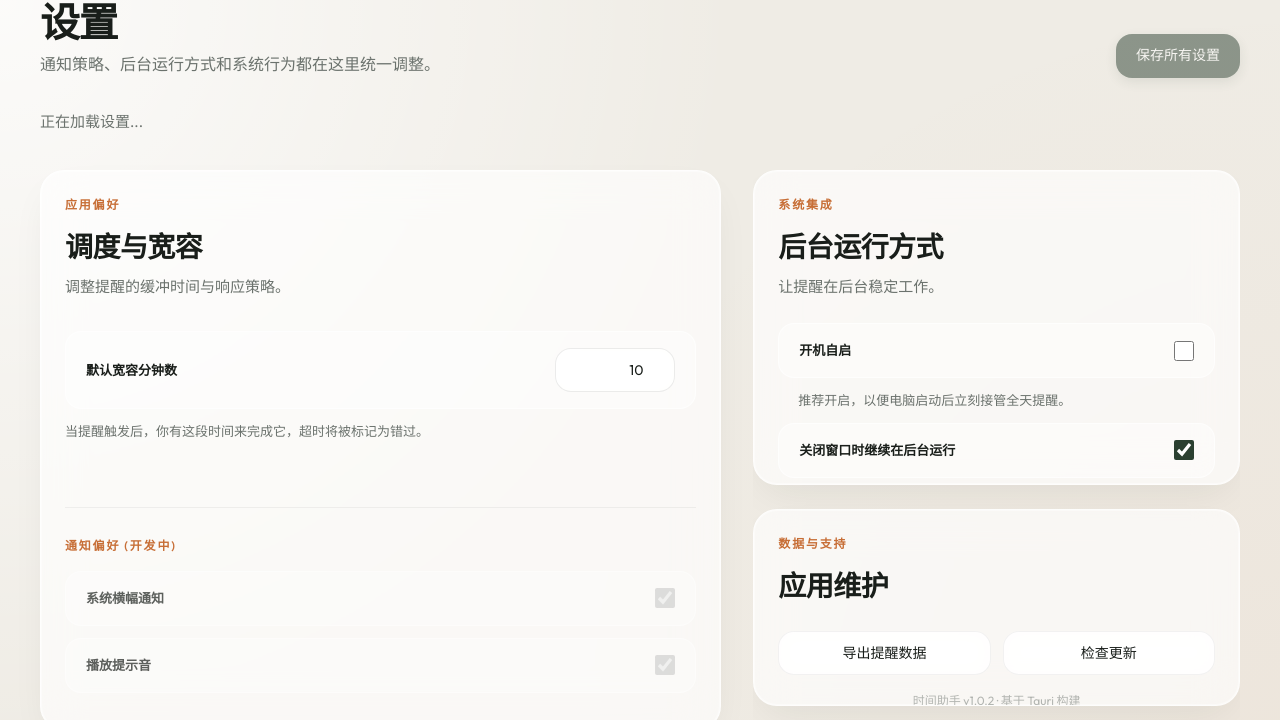
Test: SettingsPage › blocks saving when grace minutes is invalid
Replace the text in the number field named "默认宽容时间" with "-1" at point(615, 370), box [555,348,675,392]
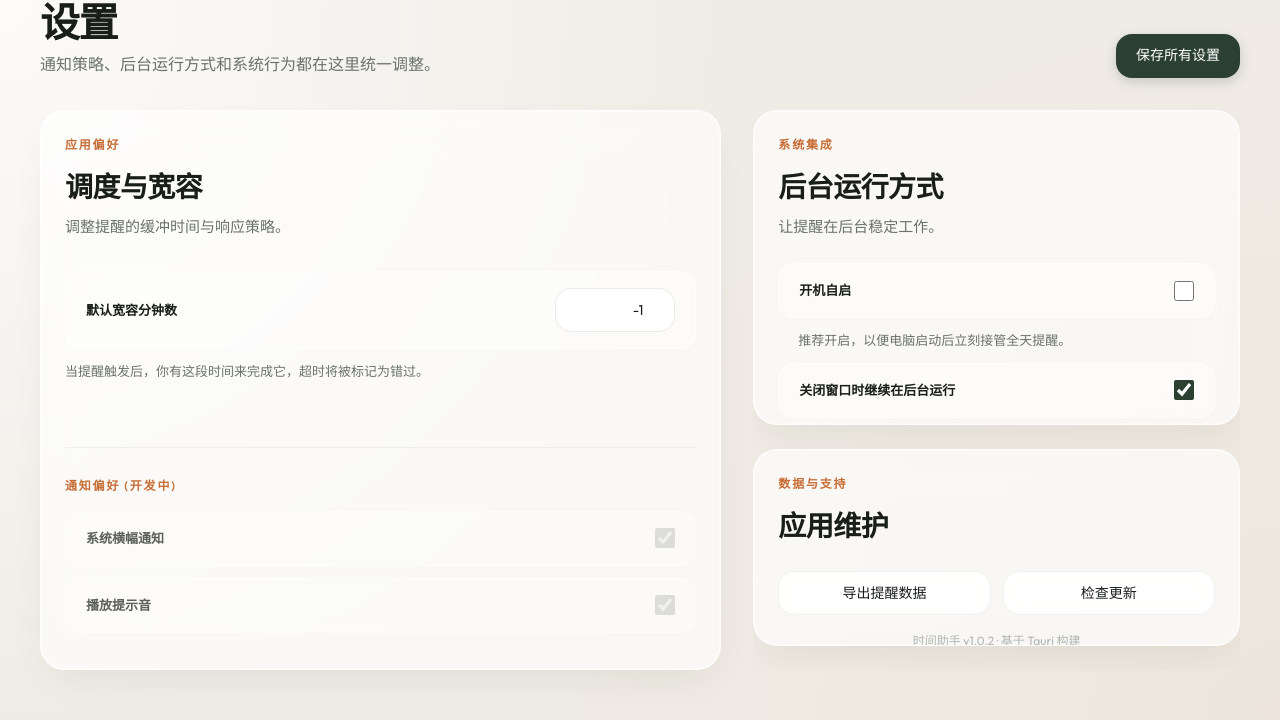
Click the button "保存所有设置" at point(1178, 56), box [1116,34,1240,78]
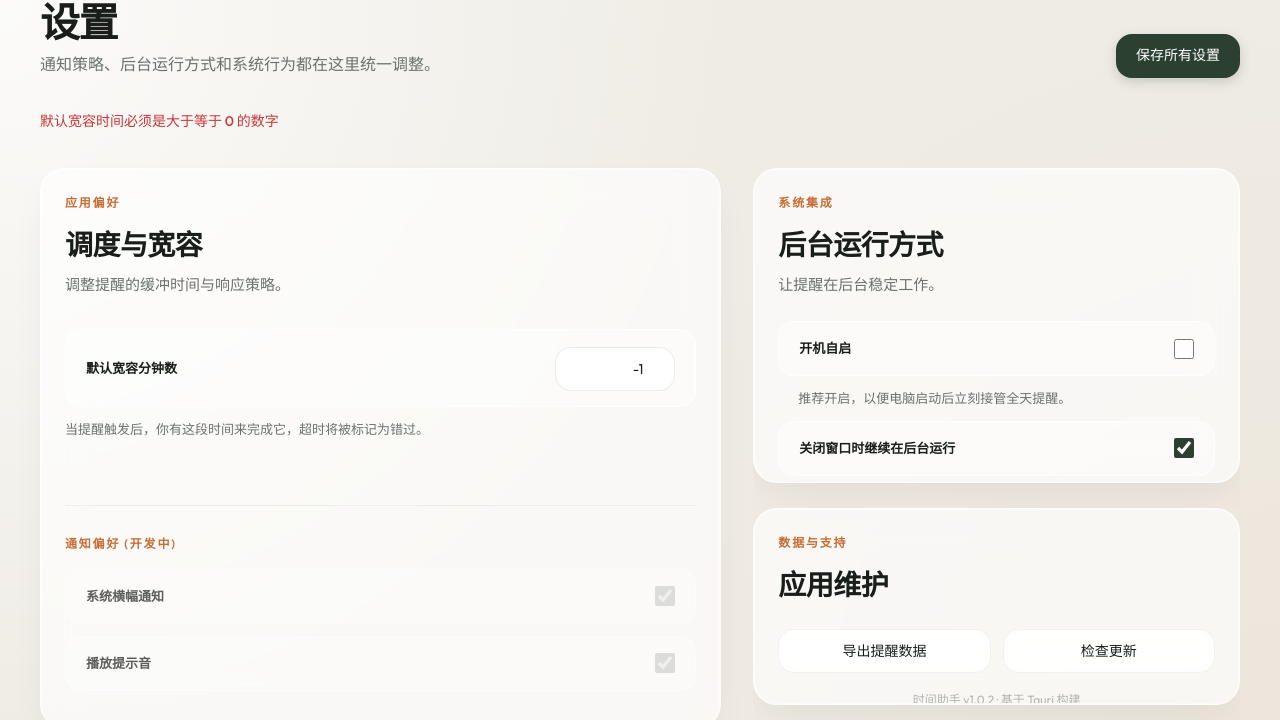
Result: the text "默认宽容时间必须是大于等于 0 的数字" is shown at [40,112,279,130]
